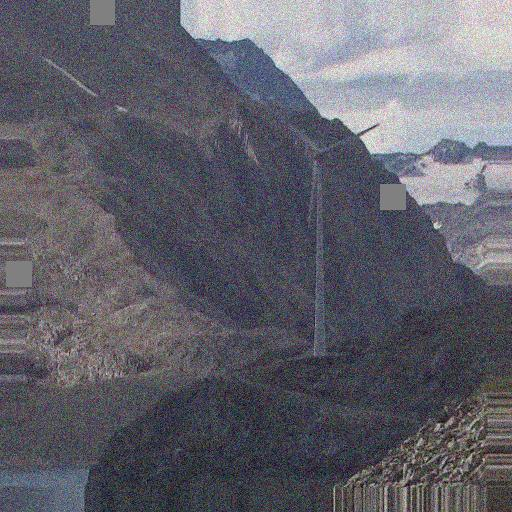wind turbine: (272, 113, 383, 355)
